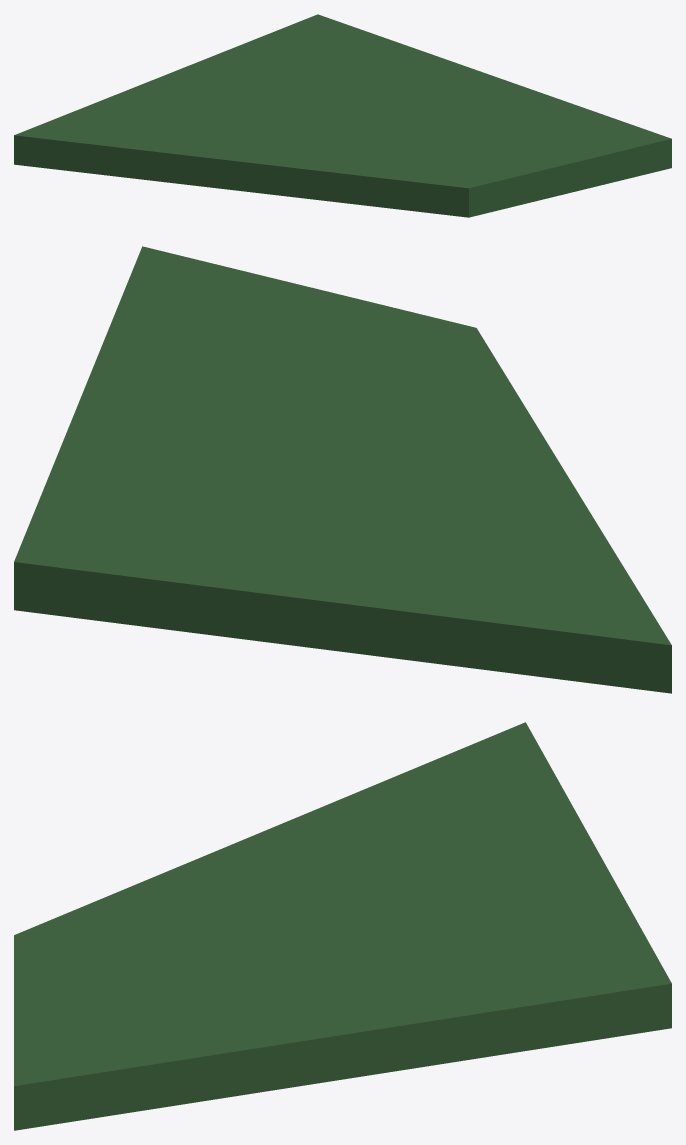
Rendered from x_proval_00_75_1_rmstrd.fbx.
3 renders of one model, top to bottom at view 1: azimuth 30°, elevation 25°; view 2: azimuth 150°, elevation 25°; view 3: azimuth 270°, elevation 25°, orthographic. The views are drawn at different scales.
Parts seen in each view (by area): view 1: x_proval_00_75_1_rmstrd1; view 2: x_proval_00_75_1_rmstrd1; view 3: x_proval_00_75_1_rmstrd1.
Part boxes in pixels (x1,y1,x2,y2): x_proval_00_75_1_rmstrd1: (14, 14, 671, 217); x_proval_00_75_1_rmstrd1: (14, 246, 671, 693); x_proval_00_75_1_rmstrd1: (14, 722, 671, 1130).
Size of the model in its own units: 3.5 by 0.2 by 2.67.
